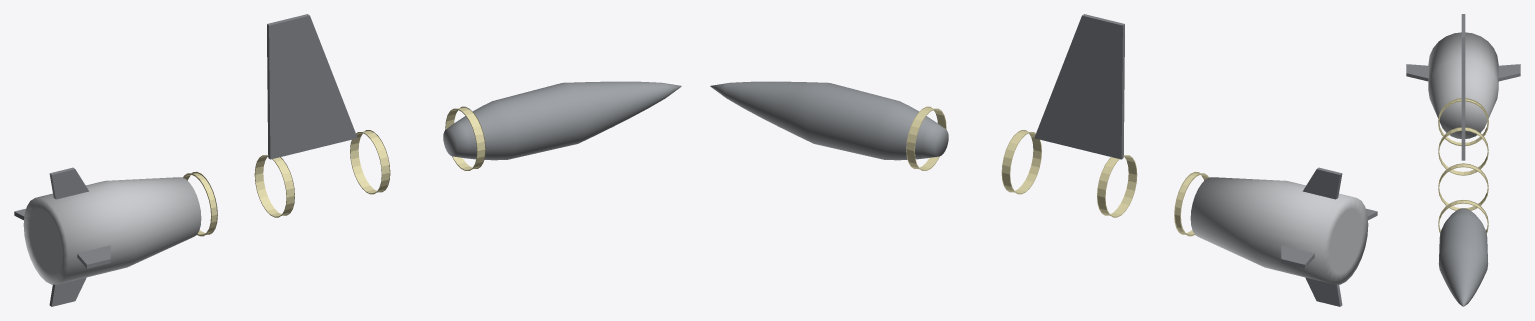
File: RU_LAM_Kalibr_3M14_LOD1.fbx
3 views of the same model, side by side, from view 1: azimuth 30°, elevation 25°; view 2: azimuth 150°, elevation 25°; view 3: azimuth 270°, elevation 25° (orthographic). The views are drawn at different scales.
Visible parts, largest first — view 1: WPN_RU_LAM_Kalibr_3M14_LOD1_Tail, WPN_RU_LAM_Kalibr_3M14_LOD1_Body, WPN_RU_LAM_Kalibr_3M14_LOD1_Wings, WPN_RU_LAM_Kalibr_3M14_LOD1_Marking, WPN_RU_LAM_Kalibr_3M14_LOD1_Fins; view 2: WPN_RU_LAM_Kalibr_3M14_LOD1_Tail, WPN_RU_LAM_Kalibr_3M14_LOD1_Body, WPN_RU_LAM_Kalibr_3M14_LOD1_Wings, WPN_RU_LAM_Kalibr_3M14_LOD1_Marking, WPN_RU_LAM_Kalibr_3M14_LOD1_Fins; view 3: WPN_RU_LAM_Kalibr_3M14_LOD1_Tail, WPN_RU_LAM_Kalibr_3M14_LOD1_Body, WPN_RU_LAM_Kalibr_3M14_LOD1_Marking, WPN_RU_LAM_Kalibr_3M14_LOD1_Fins, WPN_RU_LAM_Kalibr_3M14_LOD1_Wings.
Part boxes in pixels (bbox=[...]): WPN_RU_LAM_Kalibr_3M14_LOD1_Tail: bbox=[23, 177, 201, 284]; WPN_RU_LAM_Kalibr_3M14_LOD1_Body: bbox=[443, 81, 681, 160]; WPN_RU_LAM_Kalibr_3M14_LOD1_Wings: bbox=[267, 14, 357, 159]; WPN_RU_LAM_Kalibr_3M14_LOD1_Marking: bbox=[183, 106, 485, 236]; WPN_RU_LAM_Kalibr_3M14_LOD1_Fins: bbox=[14, 167, 110, 306]; WPN_RU_LAM_Kalibr_3M14_LOD1_Tail: bbox=[1190, 177, 1368, 284]; WPN_RU_LAM_Kalibr_3M14_LOD1_Body: bbox=[710, 81, 948, 160]; WPN_RU_LAM_Kalibr_3M14_LOD1_Wings: bbox=[1034, 14, 1124, 159]; WPN_RU_LAM_Kalibr_3M14_LOD1_Marking: bbox=[906, 106, 1208, 236]; WPN_RU_LAM_Kalibr_3M14_LOD1_Fins: bbox=[1281, 167, 1377, 306]; WPN_RU_LAM_Kalibr_3M14_LOD1_Tail: bbox=[1428, 32, 1498, 138]; WPN_RU_LAM_Kalibr_3M14_LOD1_Body: bbox=[1438, 208, 1488, 306]; WPN_RU_LAM_Kalibr_3M14_LOD1_Marking: bbox=[1438, 98, 1488, 233]; WPN_RU_LAM_Kalibr_3M14_LOD1_Fins: bbox=[1406, 14, 1520, 81]; WPN_RU_LAM_Kalibr_3M14_LOD1_Wings: bbox=[1461, 21, 1465, 160].
Bounding box in the file's own units: 6.2 × 1.23 × 2.13.
